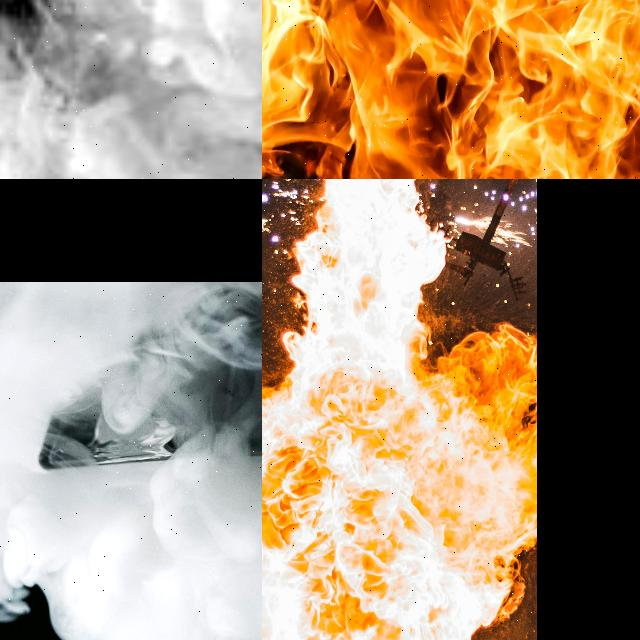fire: (262, 179, 536, 640)
fire-smoke: (262, 0, 640, 179)
smoke: (0, 281, 262, 640), (0, 0, 262, 179)
